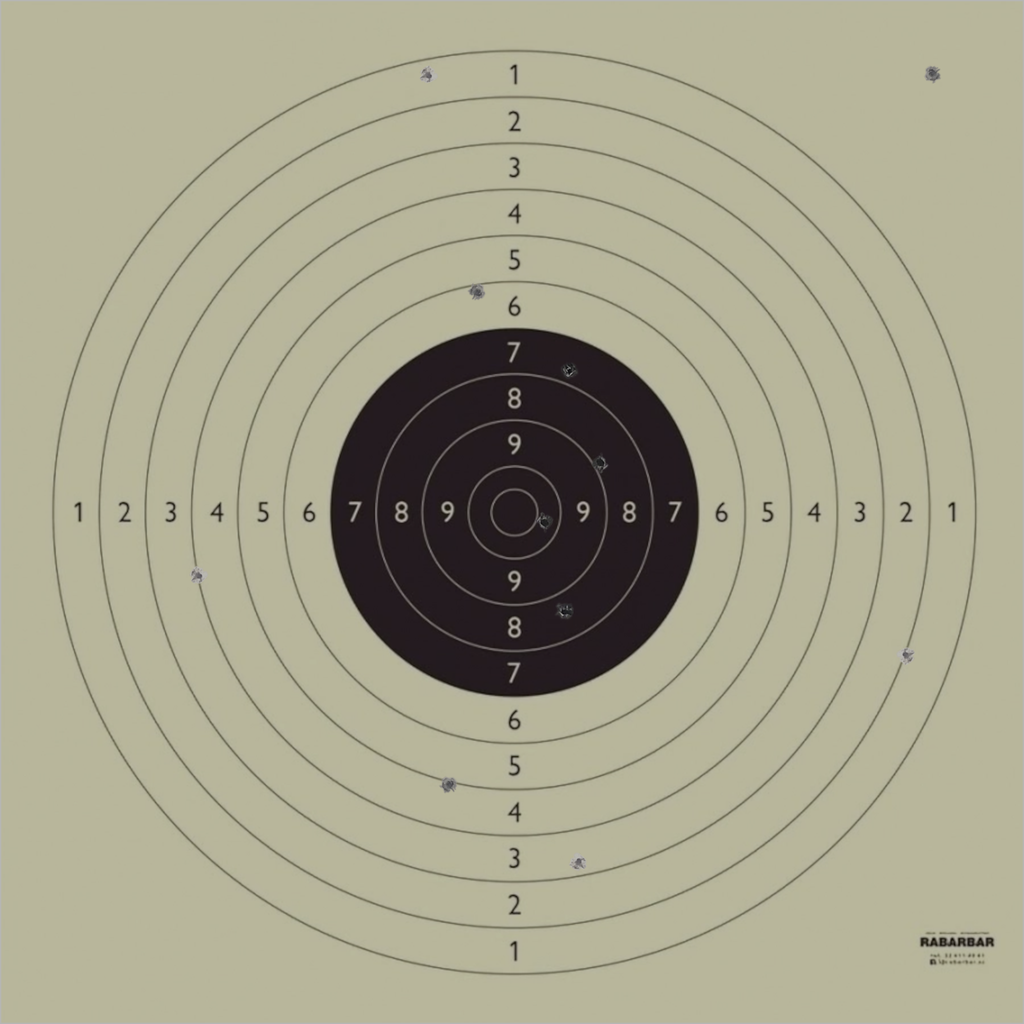0 punktow: (923, 64, 942, 83)
1 punkt: (419, 66, 437, 85)
10 punktow: (535, 513, 553, 532)
2 punkty: (897, 646, 915, 664)
3 punkty: (570, 853, 588, 871)
4 punkty: (189, 567, 208, 585)
5 punktow: (440, 775, 459, 794)
6 punktow: (468, 283, 487, 302)
7 punktow: (560, 362, 579, 381)
8 punktow: (555, 602, 573, 621)
9 punktow: (591, 454, 610, 472)
